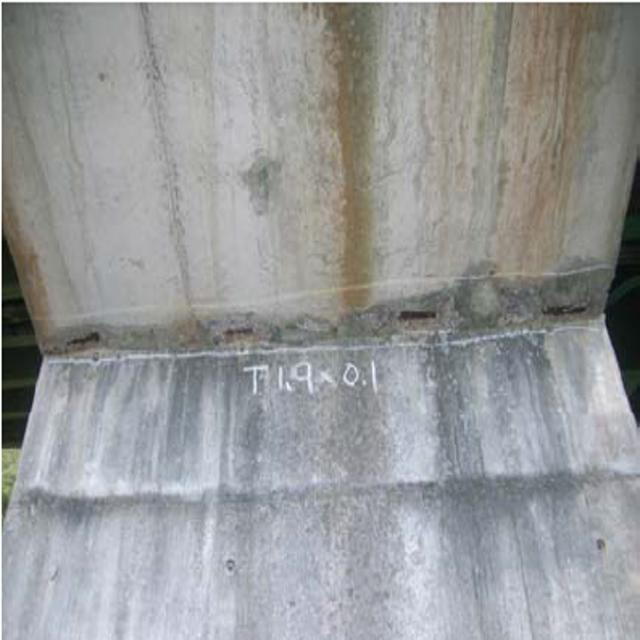spalling: (46, 263, 613, 368)
